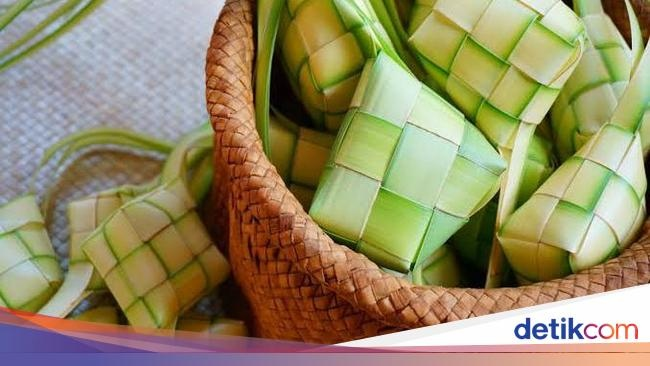ketupat: (307, 54, 508, 275), (81, 181, 231, 334)
